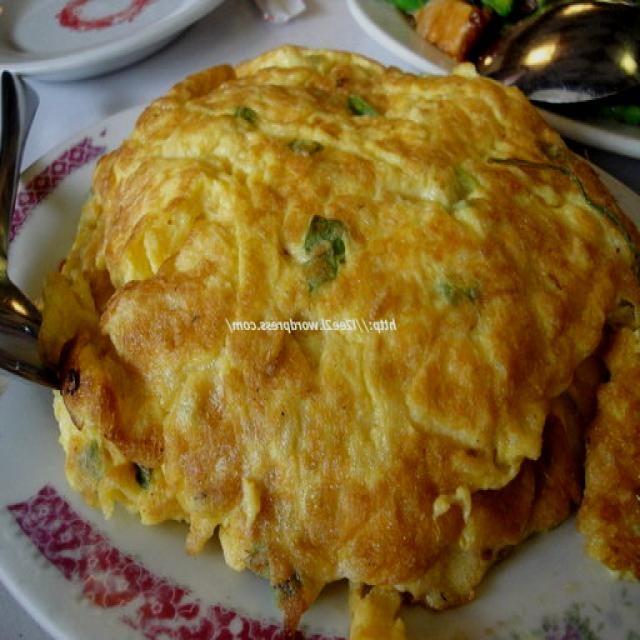omelette: (50, 42, 632, 618)
